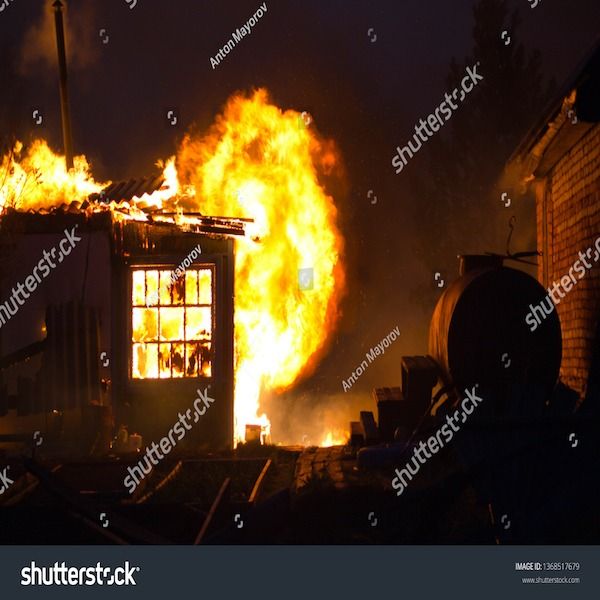fire: (184, 90, 336, 222), (237, 226, 330, 389), (1, 137, 95, 213), (135, 309, 209, 338), (235, 393, 271, 428), (133, 271, 170, 304), (186, 272, 208, 304), (134, 345, 156, 375)
